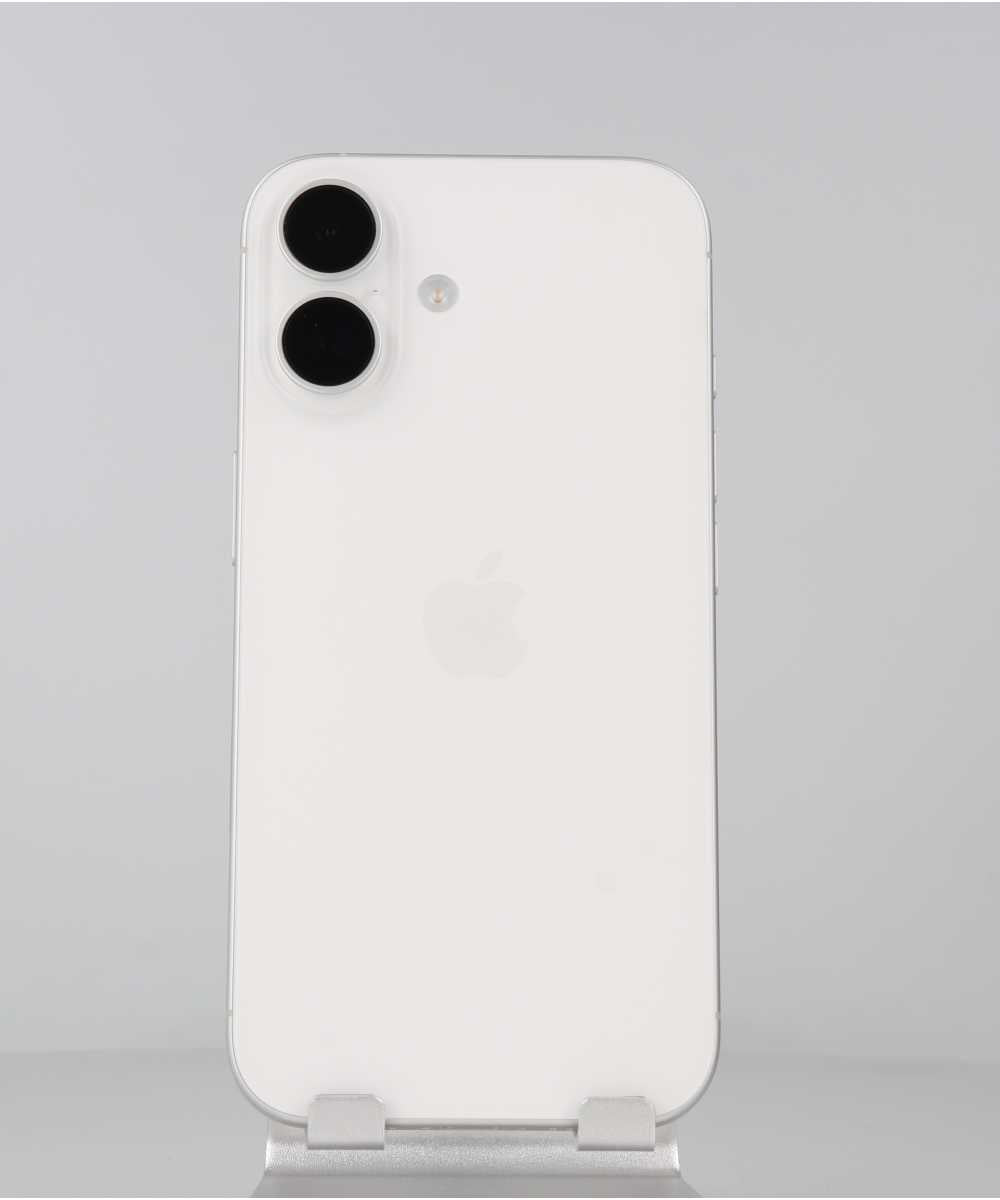iphone16_white: (187, 135, 749, 1124), (249, 168, 496, 406)
